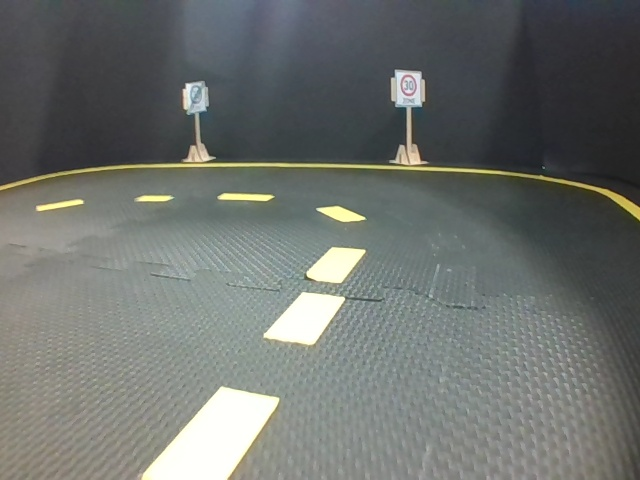30: (397, 69, 419, 103)
no30: (184, 81, 207, 114)
